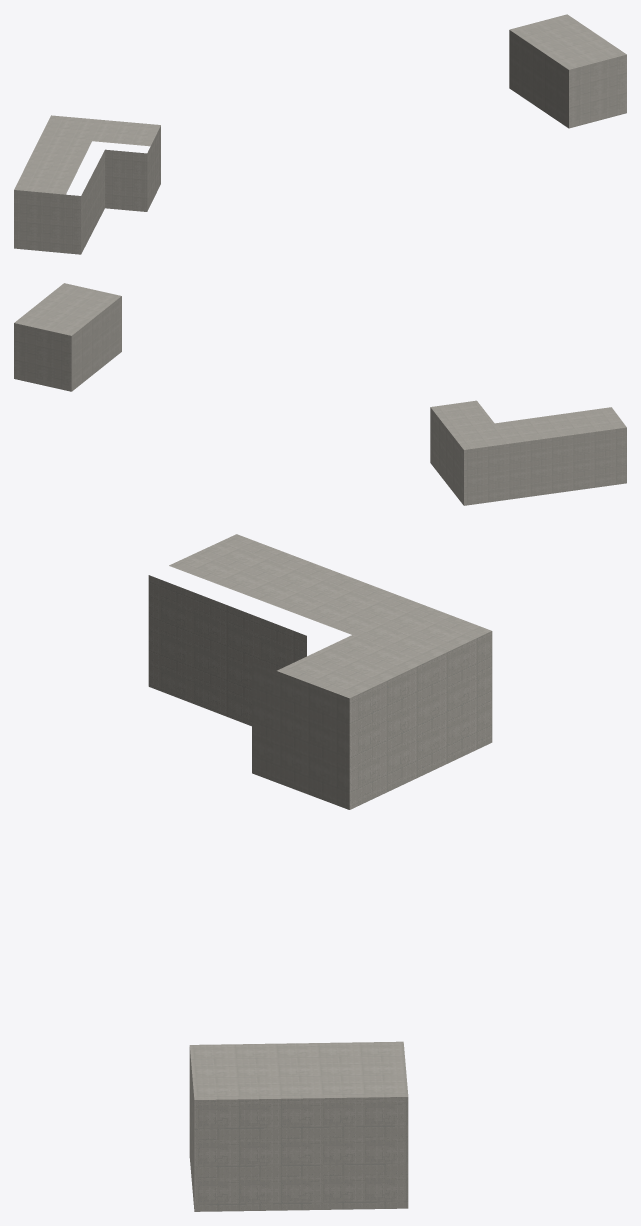
The model's file is kd_connection_world-outer_surface_7_0.glb.
3 renders of one model, top to bottom at view 1: azimuth 30°, elevation 25°; view 2: azimuth 150°, elevation 25°; view 3: azimuth 270°, elevation 25°, orthographic. The views are drawn at different scales.
Visible parts, largest first — view 1: kd_connection_world-outer_surface_7_0; view 2: kd_connection_world-outer_surface_7_0; view 3: kd_connection_world-outer_surface_7_0.
Boxes of the visible parts, x1,y1,x2,y2 form: kd_connection_world-outer_surface_7_0: (14, 14, 626, 254); kd_connection_world-outer_surface_7_0: (14, 283, 626, 505); kd_connection_world-outer_surface_7_0: (148, 534, 492, 1211).
Size of the model in its own units: 862 by 84.88 by 223.
Materials: 1 (1 with a texture image).
